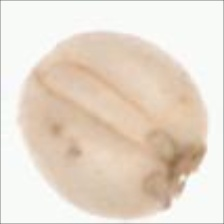L5: (27, 51, 174, 162), (148, 125, 206, 206)
L6: (16, 28, 211, 222)
